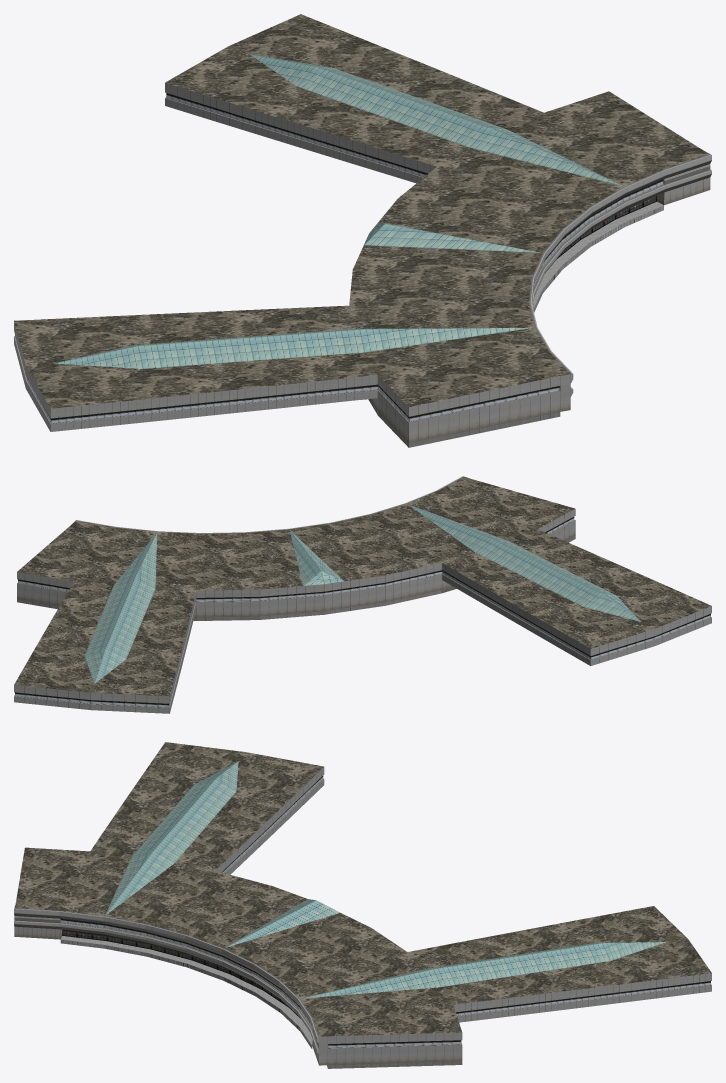
File: airport_02_sfse.obj
3 renders of one model, top to bottom at view 1: azimuth 30°, elevation 25°; view 2: azimuth 150°, elevation 25°; view 3: azimuth 270°, elevation 25°, orthographic. The views are drawn at different scales.
Parts seen in each view (by area): view 1: Airport_02_SFSe; view 2: Airport_02_SFSe; view 3: Airport_02_SFSe.
Boxes of the visible parts, left/top/right/bottom form: Airport_02_SFSe: left=14, top=14, right=711, bottom=447; Airport_02_SFSe: left=14, top=476, right=711, bottom=713; Airport_02_SFSe: left=14, top=742, right=711, bottom=1068.
Bounding box in the file's own units: 249 × 16.38 × 249.
Materials: 11 (11 with a texture image).
